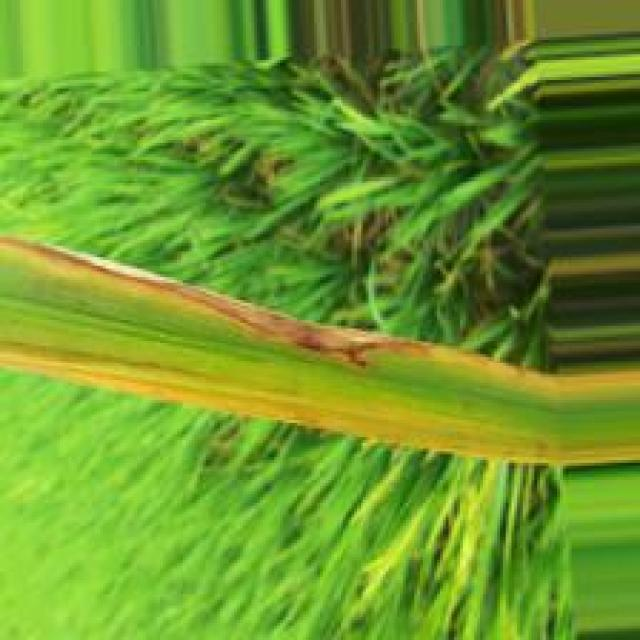Leaf_Blast: (9, 239, 401, 371)
